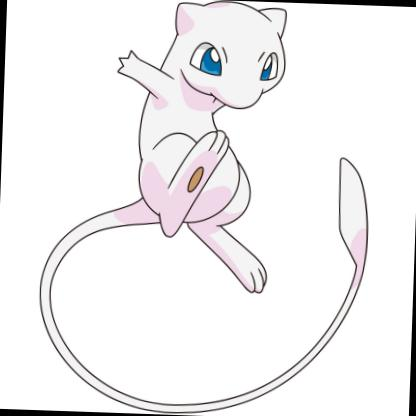Mew: (1, 14, 397, 396)
